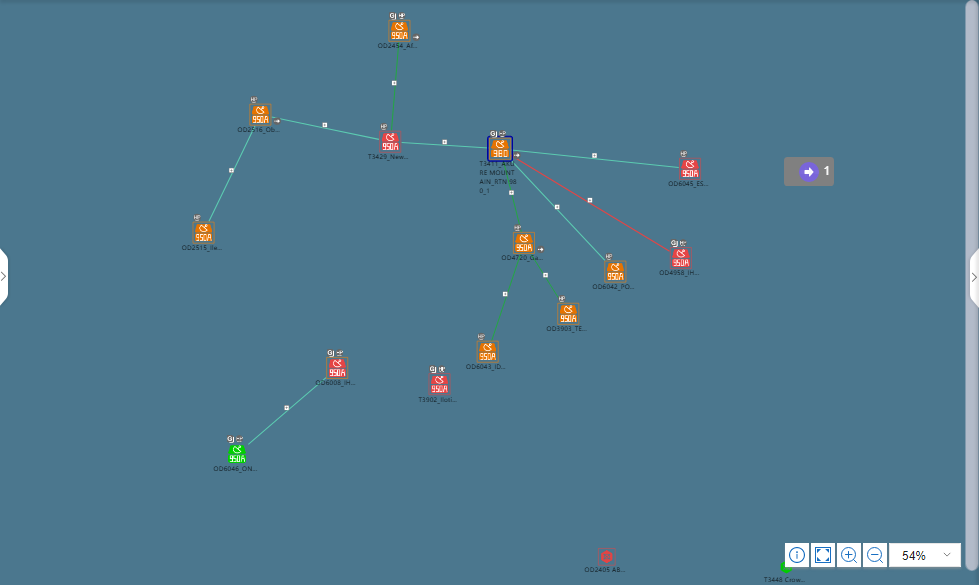Link_Blue: (511, 161, 607, 263), (205, 124, 259, 219), (248, 375, 323, 441), (528, 149, 681, 172), (294, 118, 381, 138)
Link_Green: (493, 253, 519, 326), (529, 253, 564, 306), (499, 161, 519, 225), (389, 45, 396, 121)
Link_Red: (517, 155, 665, 248)
RTN_Green: (229, 442, 245, 465)
RTN_Orange: (193, 222, 216, 245), (389, 20, 411, 43), (493, 136, 516, 158), (248, 106, 269, 129), (511, 234, 532, 257), (560, 302, 577, 325), (474, 345, 496, 361), (609, 265, 624, 280)
RTN_Red: (670, 247, 693, 270), (431, 375, 454, 398), (327, 357, 350, 380), (382, 130, 399, 153), (682, 161, 705, 176)
